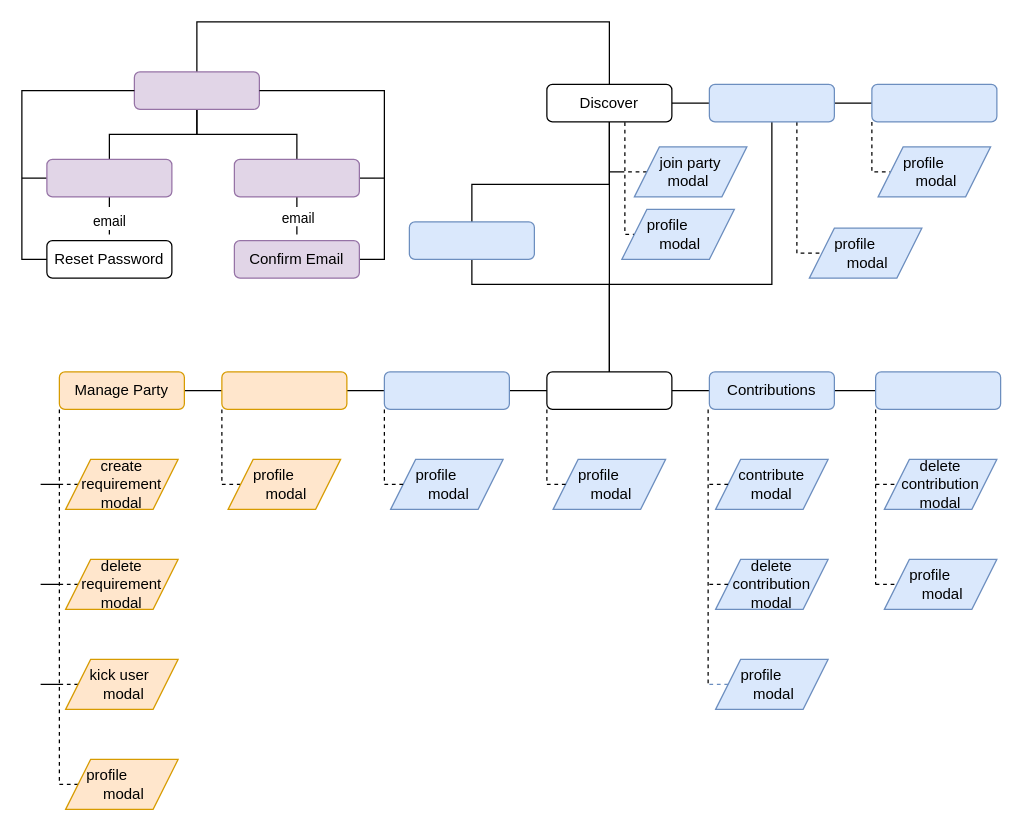
The diagram is 1023 pixels wide and 831 high, and some of its shapes have lost their labels. The shapes that lost their labels are listed below. From the top down, each one's centre as x and y in pixels, then its label:
At point (196, 90): "Login".
At point (771, 102): "Parties".
At point (934, 102): "Friends".
At point (109, 177): "Forgot Password".
At point (296, 177): "Register".
At point (471, 240): "Create Party".
At point (284, 390): "Party Options".
At point (446, 390): "Cocktails".
At point (609, 390): "Party Home".
At point (937, 390): "Hall of Fame".
